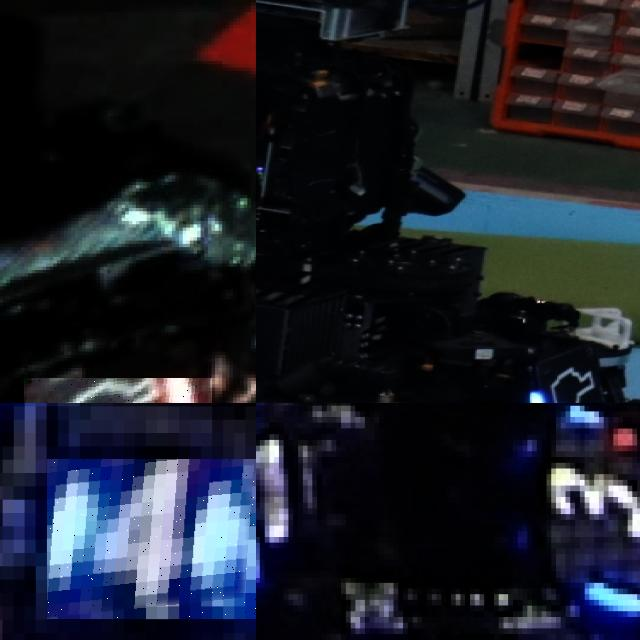B4: (46, 459, 256, 619)
Bs: (524, 357, 609, 403)
Rs: (24, 378, 211, 403)
